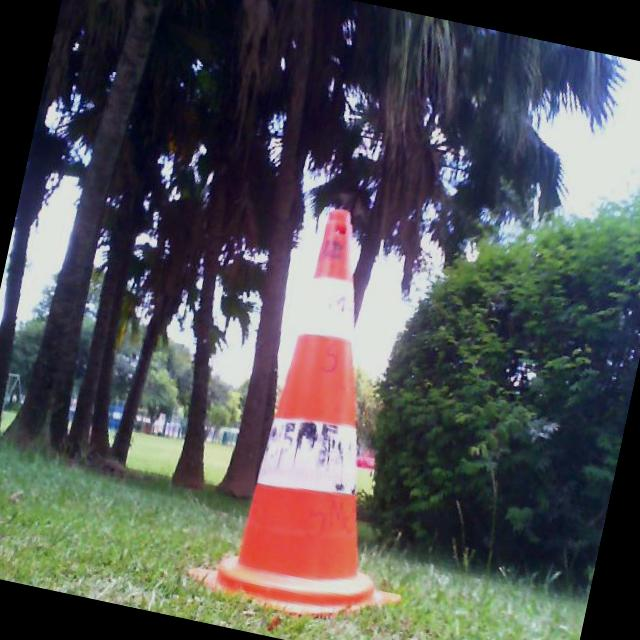Cone: (185, 195, 476, 633)
